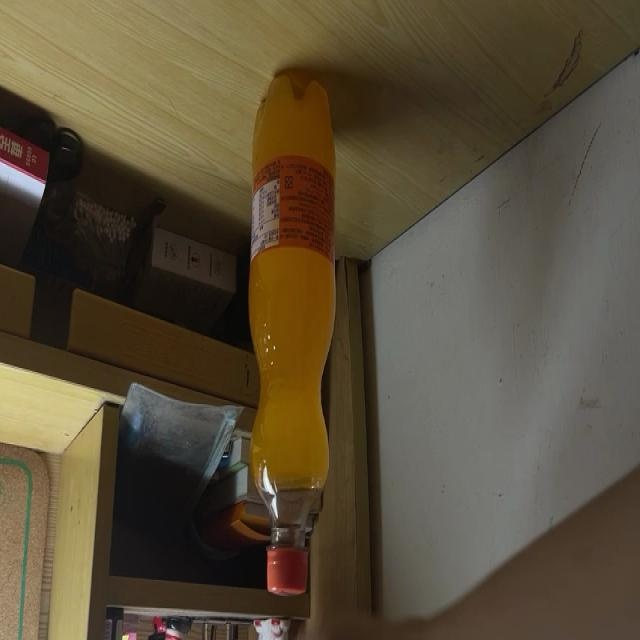Fanta: (250, 69, 336, 598)
